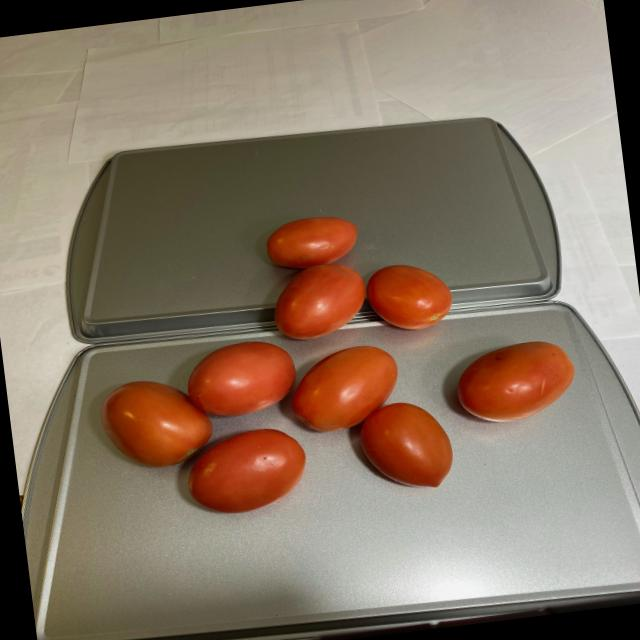tomato: (77, 181, 592, 526), (108, 259, 470, 521)
